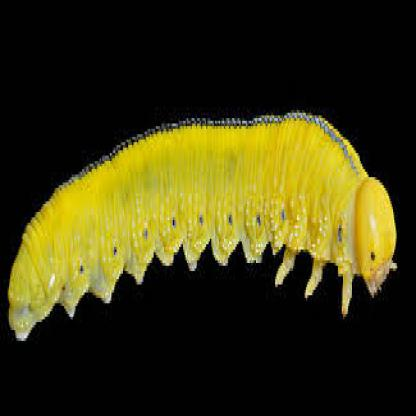sawfly: (7, 102, 400, 348)
